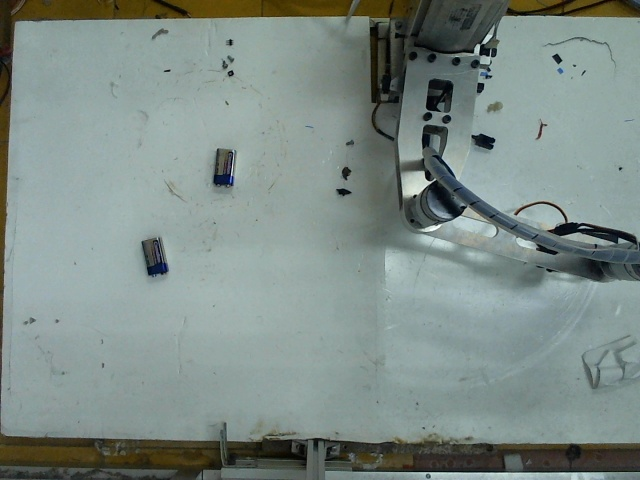battery: (207, 140, 241, 189), (132, 236, 171, 276)
